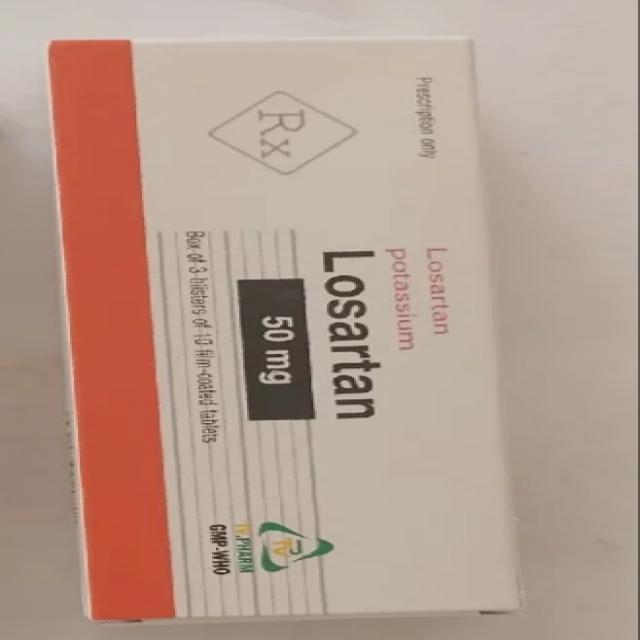drug-name: (311, 243, 402, 429)
